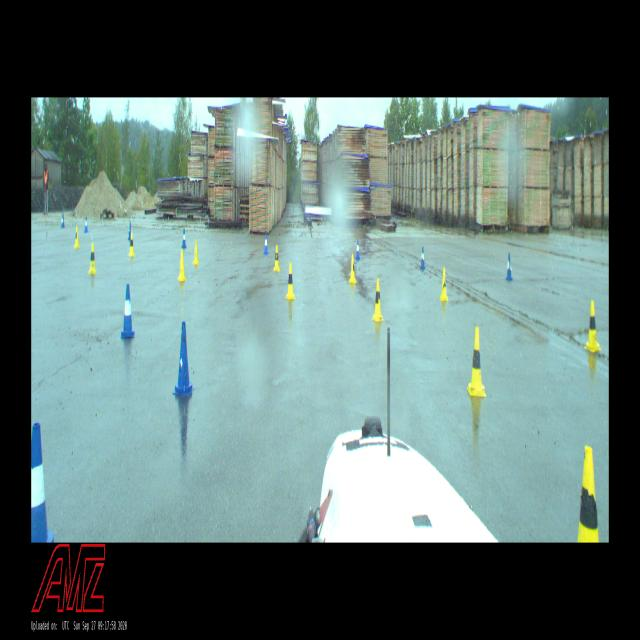blue_cone: (31, 423, 54, 543), (173, 321, 194, 396), (121, 284, 135, 339), (506, 252, 512, 280), (420, 246, 425, 269), (263, 234, 269, 253), (355, 239, 360, 260), (182, 228, 186, 248), (128, 221, 131, 240), (61, 213, 65, 227), (85, 216, 88, 232)
yellow_cone: (578, 447, 599, 542), (467, 327, 486, 396), (584, 301, 602, 352), (371, 278, 384, 322), (285, 262, 296, 299), (177, 249, 187, 280), (439, 267, 448, 301), (88, 242, 97, 274), (348, 254, 356, 283), (192, 239, 200, 264), (274, 244, 280, 271), (129, 232, 135, 256), (74, 225, 80, 248)
